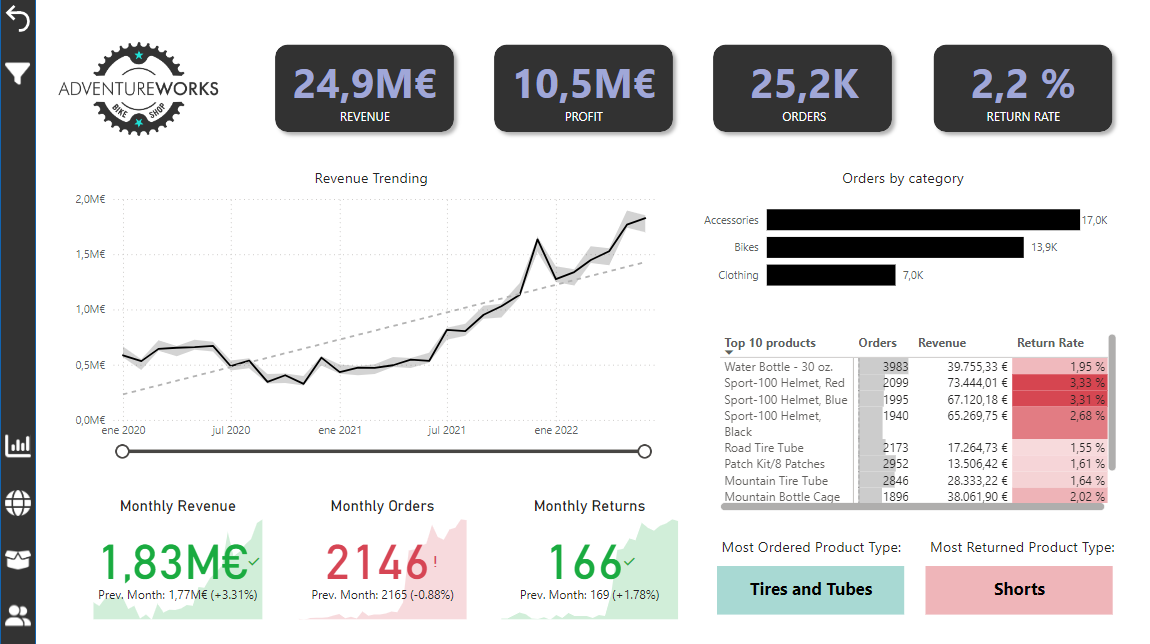

The dashboard page shown, as its layout file describes it:
{"tool":"powerbi","page":{"name":"Executive Dashboard","canvas":[1280,720],"ordinal":0},"visuals":[{"type":"image","title":"AW logo","box":[40,16.7,228.3,166.7],"z":0},{"type":"group","id":"g1","title":"KPI backround","box":[297.2,41.7,947.8,115],"z":0,"group":"g3"},{"type":"shape","box":[297.2,41.7,216.7,115],"z":0,"group":"g1"},{"type":"card","fields":{"Values":["Measure Table.Total Revenue"]},"box":[306.6,48.4,196.7,103.3],"z":0,"group":"g2"},{"type":"shape","title":"Left Nav Backr","box":[0,0,40,720],"z":1000},{"type":"shape","box":[540.9,41.7,216.7,115],"z":1000,"group":"g1"},{"type":"group","id":"g2","title":"KPIs Values","box":[306.6,48.4,928.3,103.3],"z":1000,"group":"g3"},{"type":"card","fields":{"Values":["Measure Table.Total Orders"]},"box":[794.4,48.4,196.7,103.3],"z":1000,"group":"g2"},{"type":"group","id":"g3","title":"KPIs","box":[297.2,41.7,947.8,115],"z":2000},{"type":"shape","box":[1028.3,41.7,216.7,115],"z":2000,"group":"g1"},{"type":"card","fields":{"Values":["Measure Table.Return Rate"]},"box":[1038.3,48.4,196.7,103.3],"z":2000,"group":"g2"},{"type":"shape","box":[784.6,41.7,216.7,115],"z":3000,"group":"g1"},{"type":"card","fields":{"Values":["Measure Table.Total Profit"]},"box":[550.5,48.4,196.7,103.3],"z":3000,"group":"g2"},{"type":"lineChart","title":"Revenue Trending","fields":{"Y":["Measure Table.Total Revenue"],"Category":["Calendar Lookup.Start of Month"]},"box":[78.3,187.1,668.3,326.7],"z":3000},{"type":"kpi","title":"Monthly Revenue","fields":{"Indicator":["Measure Table.Total Revenue"],"TrendLine":["Calendar Lookup.Start of Month"],"Goal":["Measure Table.Previous Month Revenue"]},"box":[98.3,552.5,198.3,141],"z":4000},{"type":"kpi","title":"Monthly Orders","fields":{"TrendLine":["Calendar Lookup.Start of Month"],"Indicator":["Measure Table.Total Orders"],"Goal":["Measure Table.Previous Month Orders"]},"box":[325.8,552.5,196.7,141],"z":5000},{"type":"kpi","title":"Monthly Returns","fields":{"TrendLine":["Calendar Lookup.Start of Month"],"Indicator":["Measure Table.Total Returns"],"Goal":["Measure Table.Previous Month Return"]},"box":[551.7,552.5,206.7,141],"z":6000},{"type":"clusteredBarChart","title":"Orders by category","fields":{"Category":["Product Category Lookup.CategoryName"],"Y":["Measure Table.Total Orders"]},"box":[771.7,187.1,463.3,150],"z":7000},{"type":"pivotTable","fields":{"Rows":["Product Lookup.ProductName"],"Values":["Measure Table.Total Orders","Measure Table.Total Revenue","Measure Table.Return Rate"]},"box":[795,366.7,450,206.7],"z":8000},{"type":"card","fields":{"Values":["Min(Product Subcategory Lookup.SubcategoryName)"]},"box":[796,630,208,54],"z":9000},{"type":"textbox","box":[796,592,224,38],"z":10000},{"type":"card","fields":{"Values":["Min(Product Subcategory Lookup.SubcategoryName)"]},"box":[1028,630,208,54],"z":11000},{"type":"textbox","box":[1028,592,234,32],"z":12000},{"type":"actionButton","box":[0,0,40,42],"z":13000},{"type":"actionButton","box":[2.2,479,51.7,36.7],"z":14000},{"type":"actionButton","box":[2.2,541.7,51.7,36.7],"z":15000},{"type":"actionButton","box":[2.2,604.5,51.7,36.7],"z":16000},{"type":"actionButton","box":[2.2,667.3,51.7,36.7],"z":17000},{"type":"actionButton","box":[1.4,64.3,40,35.7],"z":18000}]}

Visuals, with their boxes on the page's 1280x720 design canvas (x1, y1, x2, y2). These are canvas units, not pixel positions in the 1150x644 screenshot, which may show the page scaled, cropped or inside an application window:
"AW logo" image: 40, 17, 268, 183
"KPI backround" group: 297, 42, 1245, 157
shape: 297, 42, 514, 157
card - Measure Table.Total Revenue: 307, 48, 503, 152
"Left Nav Backr" shape: 0, 0, 40, 720
shape: 541, 42, 758, 157
"KPIs Values" group: 307, 48, 1235, 152
card - Measure Table.Total Orders: 794, 48, 991, 152
"KPIs" group: 297, 42, 1245, 157
shape: 1028, 42, 1245, 157
card - Measure Table.Return Rate: 1038, 48, 1235, 152
shape: 785, 42, 1001, 157
card - Measure Table.Total Profit: 550, 48, 747, 152
"Revenue Trending" lineChart: 78, 187, 747, 514
"Monthly Revenue" kpi: 98, 552, 297, 694
"Monthly Orders" kpi: 326, 552, 522, 694
"Monthly Returns" kpi: 552, 552, 758, 694
"Orders by category" clusteredBarChart: 772, 187, 1235, 337
pivotTable - Product Lookup.ProductName x Measure Table.Total Orders: 795, 367, 1245, 573
card - Min(Product Subcategory Lookup.SubcategoryName): 796, 630, 1004, 684
textbox: 796, 592, 1020, 630
card - Min(Product Subcategory Lookup.SubcategoryName): 1028, 630, 1236, 684
textbox: 1028, 592, 1262, 624
actionButton: 0, 0, 40, 42
actionButton: 2, 479, 54, 516
actionButton: 2, 542, 54, 578
actionButton: 2, 604, 54, 641
actionButton: 2, 667, 54, 704
actionButton: 1, 64, 41, 100
